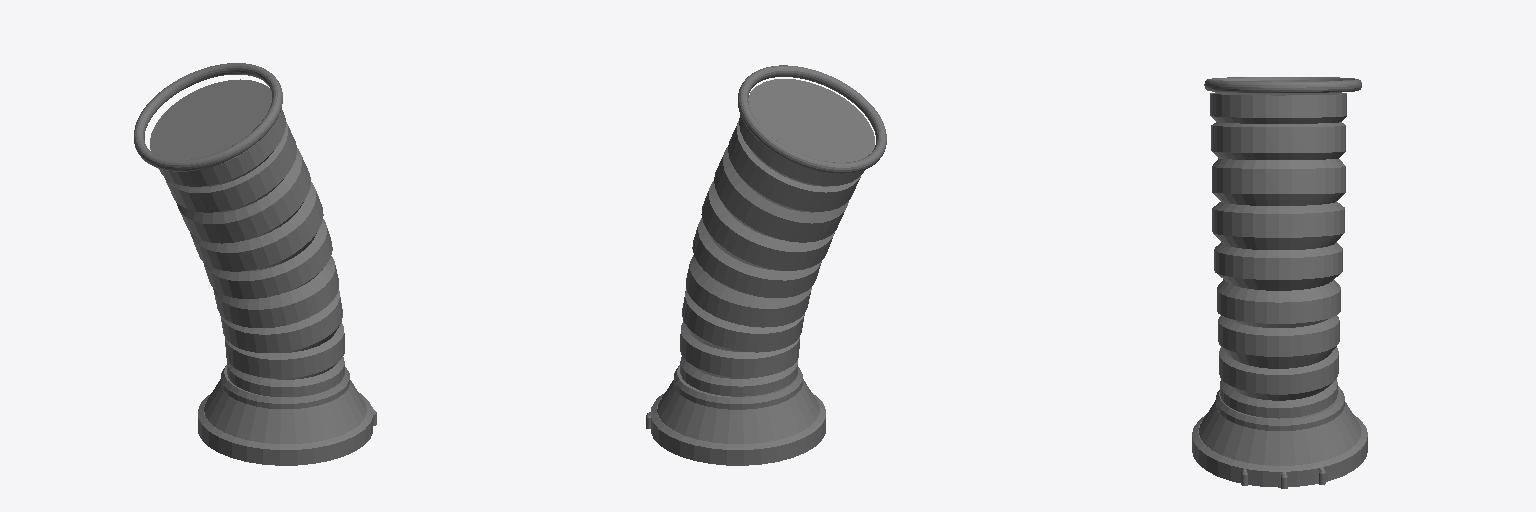
File: pata1.obj
The picture shows the model from 3 angles: view 1: azimuth 30°, elevation 25°; view 2: azimuth 150°, elevation 25°; view 3: azimuth 270°, elevation 25°; orthographic projection.
Visible parts, largest first — view 1: C_rculo_006_C_rculo_007, C_rculo_012_C_rculo_013, C_rculo_001, C_rculo_011_C_rculo_012, C_rculo_013_C_rculo_014; view 2: C_rculo_006_C_rculo_007, C_rculo_012_C_rculo_013, C_rculo_001, C_rculo_011_C_rculo_012, C_rculo_013_C_rculo_014; view 3: C_rculo_006_C_rculo_007, C_rculo_012_C_rculo_013, C_rculo_011_C_rculo_012, C_rculo_001, C_rculo_013_C_rculo_014.
Boxes of the visible parts, <box> form: C_rculo_006_C_rculo_007: <box>150,79,344,396</box>; C_rculo_012_C_rculo_013: <box>204,379,366,443</box>; C_rculo_001: <box>134,63,282,171</box>; C_rculo_011_C_rculo_012: <box>198,393,372,465</box>; C_rculo_013_C_rculo_014: <box>221,365,349,408</box>; C_rculo_006_C_rculo_007: <box>680,79,874,396</box>; C_rculo_012_C_rculo_013: <box>657,379,819,443</box>; C_rculo_001: <box>738,65,886,173</box>; C_rculo_011_C_rculo_012: <box>651,393,825,465</box>; C_rculo_013_C_rculo_014: <box>674,365,802,409</box>; C_rculo_006_C_rculo_007: <box>1210,92,1346,418</box>; C_rculo_012_C_rculo_013: <box>1199,400,1360,465</box>; C_rculo_011_C_rculo_012: <box>1192,414,1367,487</box>; C_rculo_001: <box>1204,77,1361,92</box>; C_rculo_013_C_rculo_014: <box>1216,386,1344,430</box>.
Bounding box in the file's own units: 1.48 × 2.32 × 1.03.